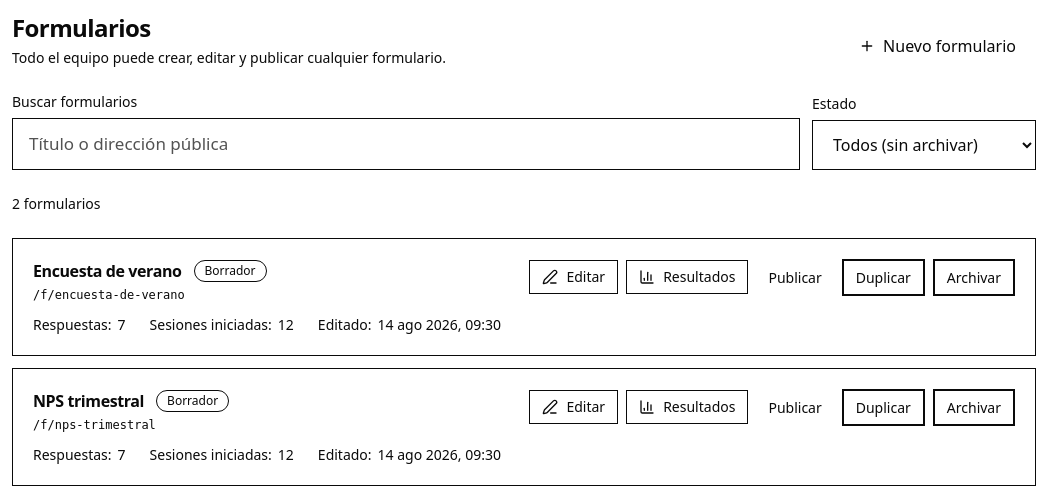
Test: ListadoFormularios · búsqueda y filtro › consulta la API con el texto escrito y muestra el resultado
This screenshot has width=1048, height=503.
Check: the text "2 formularios" is shown, box [12, 194, 100, 212]
In the search field labelled "Buscar formularios": (406,144) [12, 118, 800, 170], type "nps"
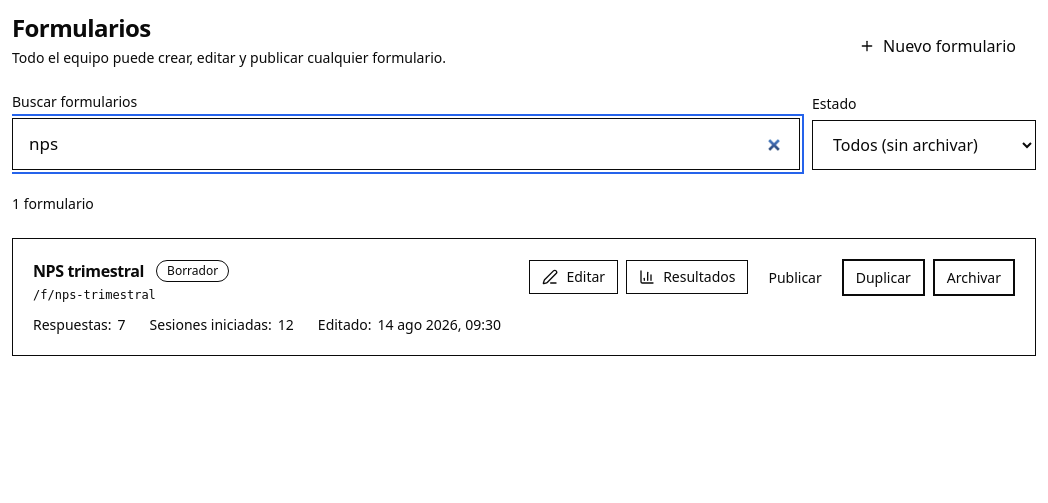
Check: the text "1 formulario" is shown, box [12, 194, 94, 212]
Check: the link "Encuesta de verano" is gone
